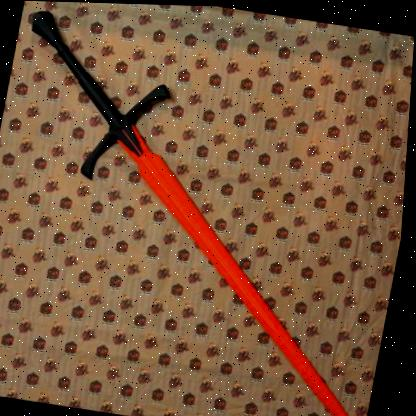sith_lightsaber: (0, 6, 416, 416)
